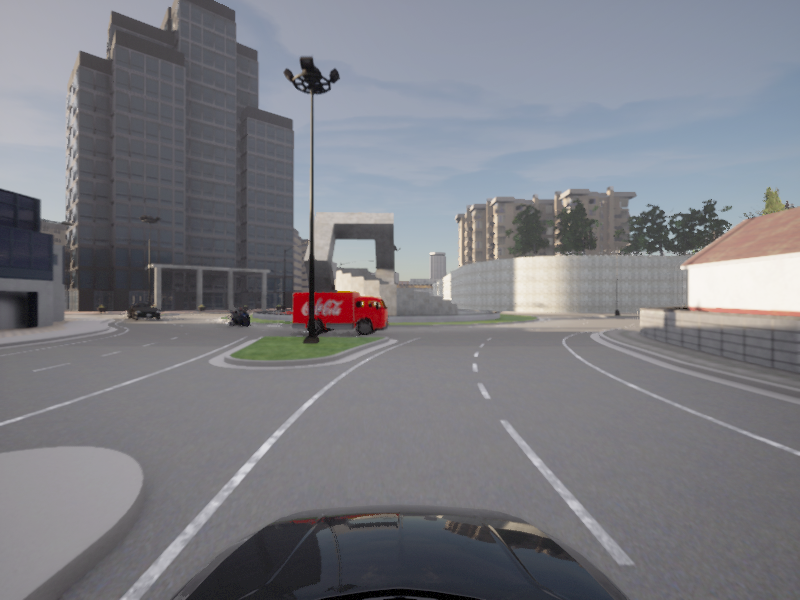vehicle: (290, 291, 389, 337), (224, 306, 255, 328), (126, 303, 162, 321)
